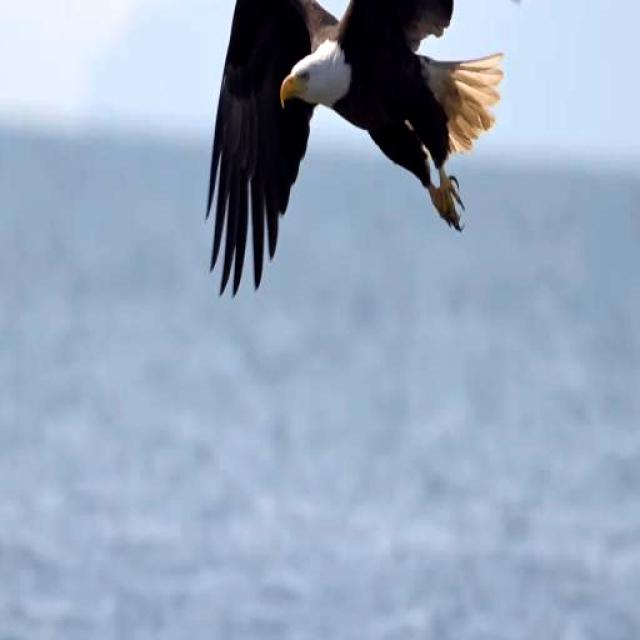airplane: (194, 0, 531, 315)
